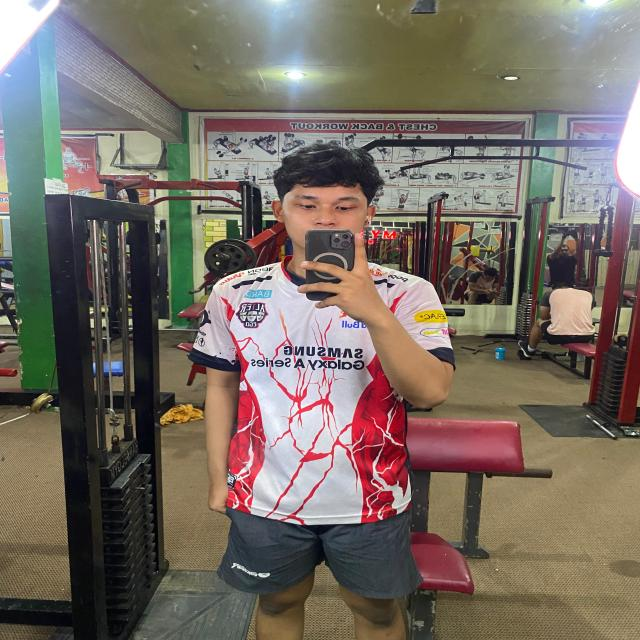nohelmet: (277, 139, 379, 257)
